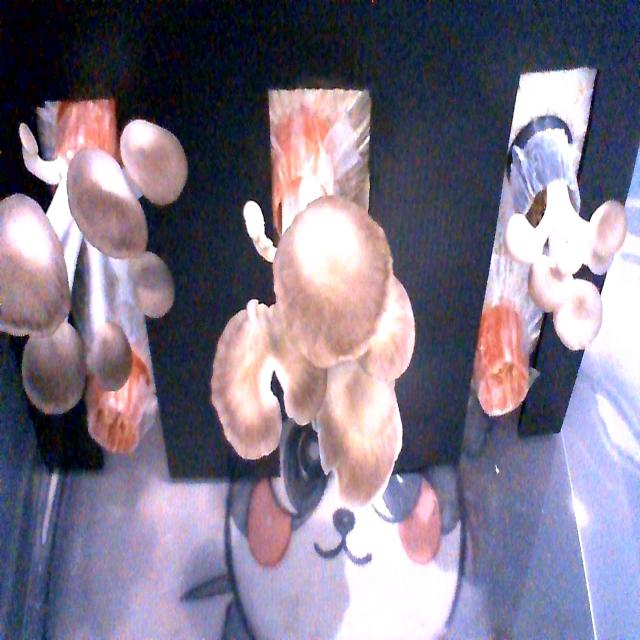big: (209, 184, 422, 508), (0, 97, 191, 417)
nfound: (82, 364, 149, 479), (472, 328, 537, 429)
small: (507, 181, 622, 347)
